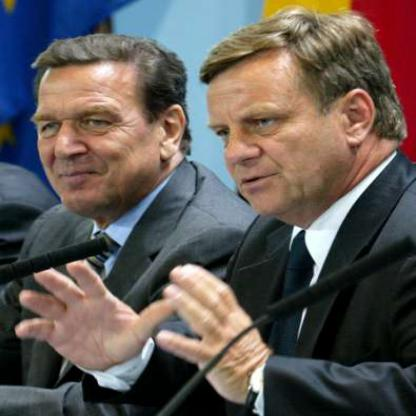face: (197, 29, 347, 219), (26, 41, 165, 218)
